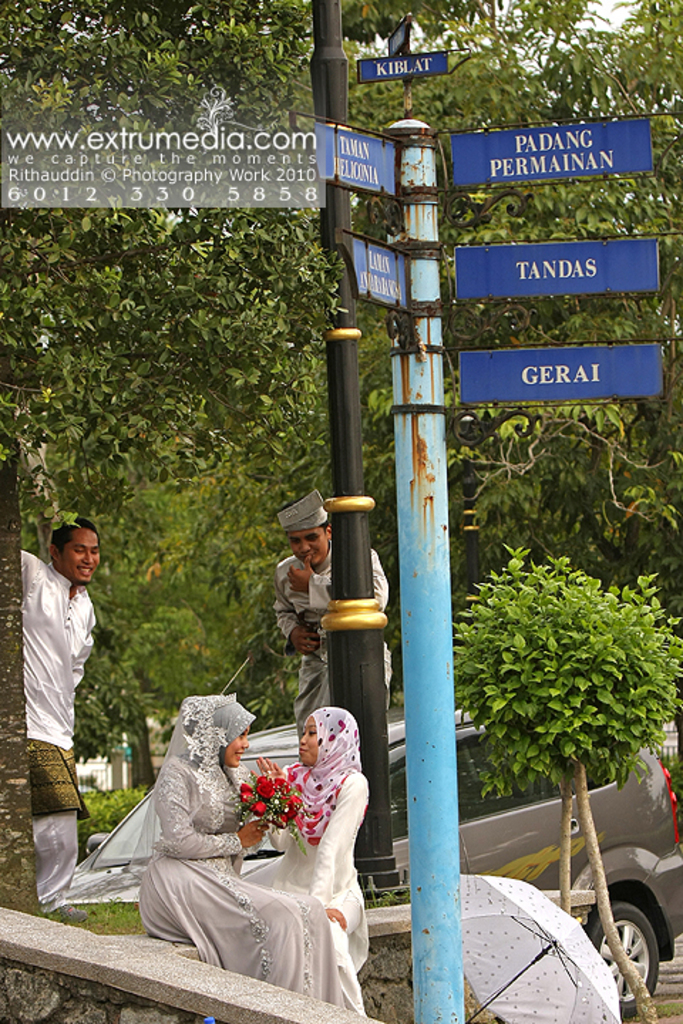Footwear: (53, 905, 91, 924)
